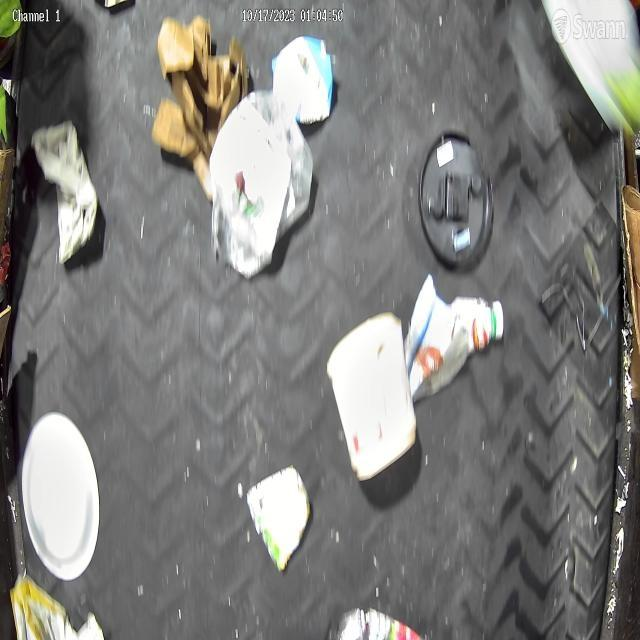non_white_jug: (272, 36, 333, 124)
